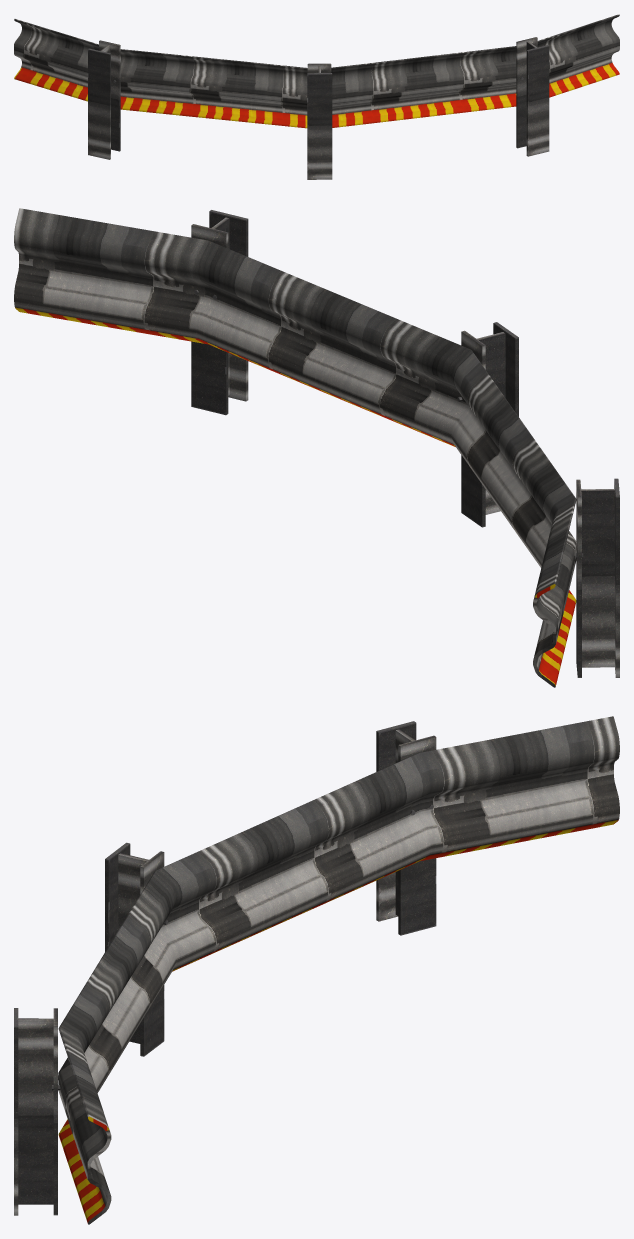
Rendered from Rail 21.FBX.
The picture shows the model from 3 angles, top to bottom: view 1: azimuth 30°, elevation 25°; view 2: azimuth 150°, elevation 25°; view 3: azimuth 270°, elevation 25°; orthographic projection. The views are drawn at different scales.
Parts seen in each view (by area): view 1: guardrail_small_90deg_in; view 2: guardrail_small_90deg_in; view 3: guardrail_small_90deg_in.
Boxes of the visible parts, x1,y1,x2,y2 form: guardrail_small_90deg_in: [14, 14, 619, 179]; guardrail_small_90deg_in: [14, 208, 619, 687]; guardrail_small_90deg_in: [14, 716, 619, 1224].
Bounding box in the file's own units: 458 × 101 × 293.
